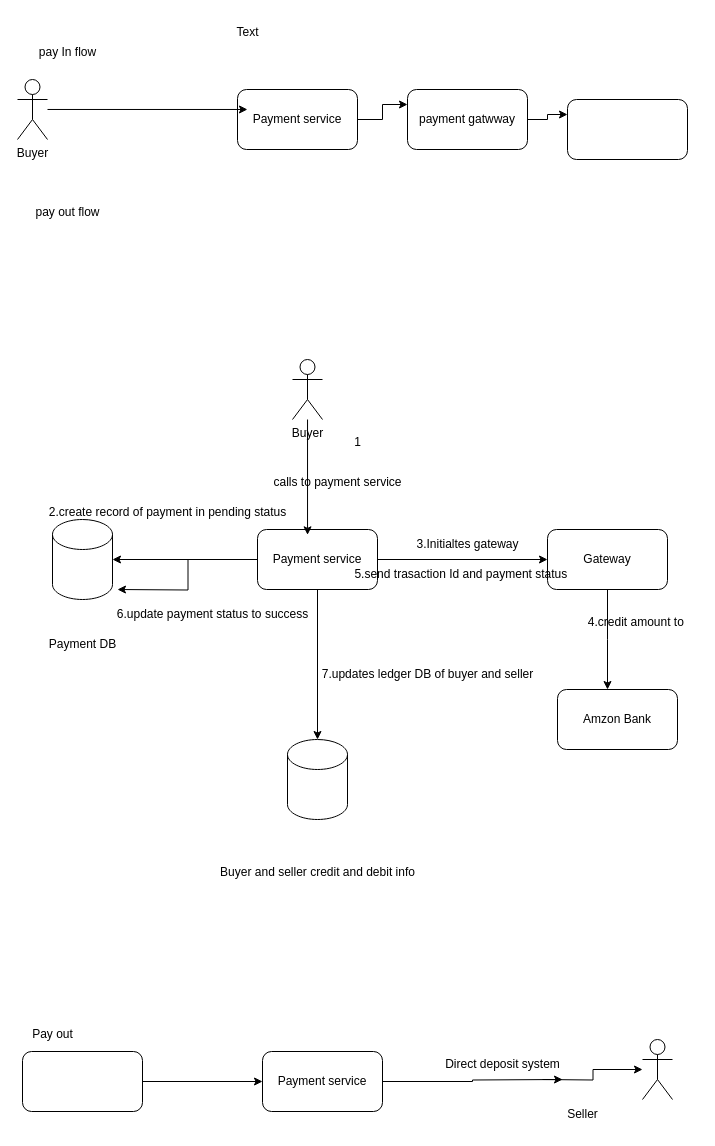
This 715x1146 diagram has some shape labels left out. The shapes that lost their labels are listed below. From the top down, each one's centre as x and y in pixels, then its label:
At pixel 627 129: "Amazon bank".
At pixel 317 779: "Leger DB".
At pixel 82 1081: "Amzzon bank".
At pixel 657 1069: "Actor".
